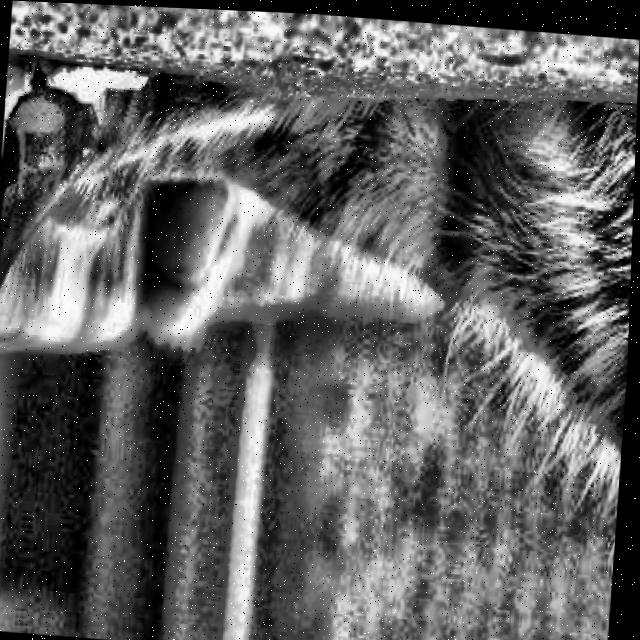cat: (0, 23, 639, 640)
